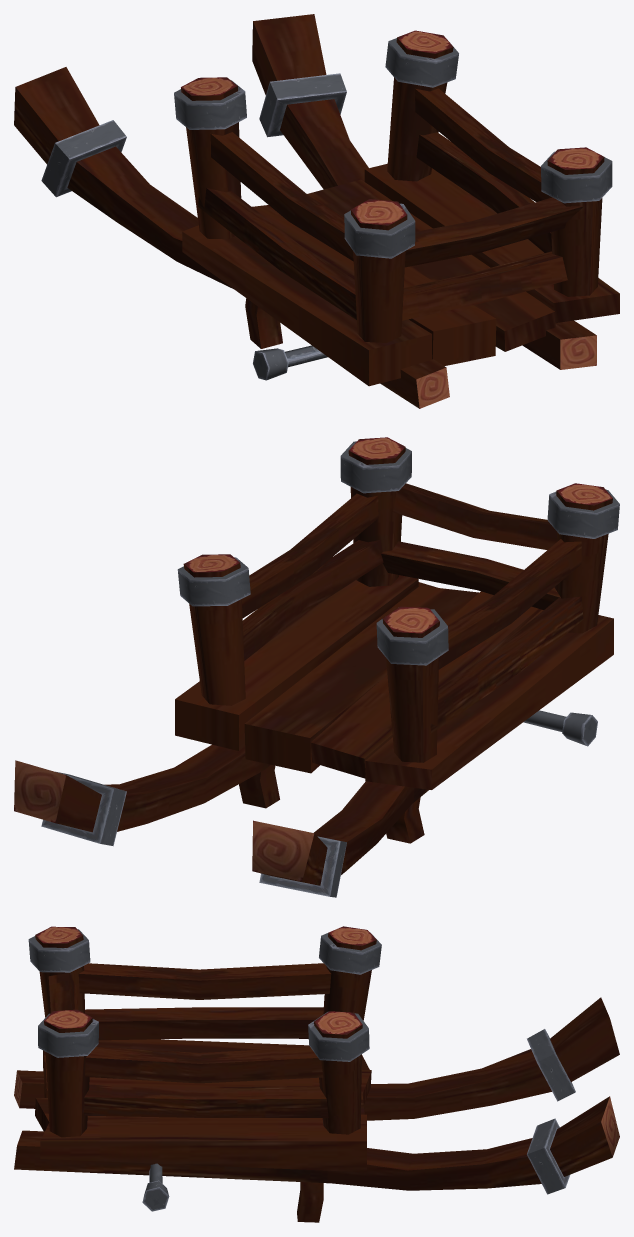
The model's file is SM_PROP_cart_01.glb.
3 views of the same model, one above another, from view 1: azimuth 30°, elevation 25°; view 2: azimuth 150°, elevation 25°; view 3: azimuth 270°, elevation 25° (orthographic). The views are drawn at different scales.
Visible parts, largest first — view 1: SM_PROP_cart_01_EXPORT; view 2: SM_PROP_cart_01_EXPORT; view 3: SM_PROP_cart_01_EXPORT.
Boxes of the visible parts, x1=… form: SM_PROP_cart_01_EXPORT: x1=14, y1=14, x2=619, y2=408; SM_PROP_cart_01_EXPORT: x1=14, y1=437, x2=619, y2=897; SM_PROP_cart_01_EXPORT: x1=14, y1=926, x2=619, y2=1222.
Bounding box in the file's own units: 2.34 × 1.68 × 4.38.
Materials: 3 (3 with a texture image).
